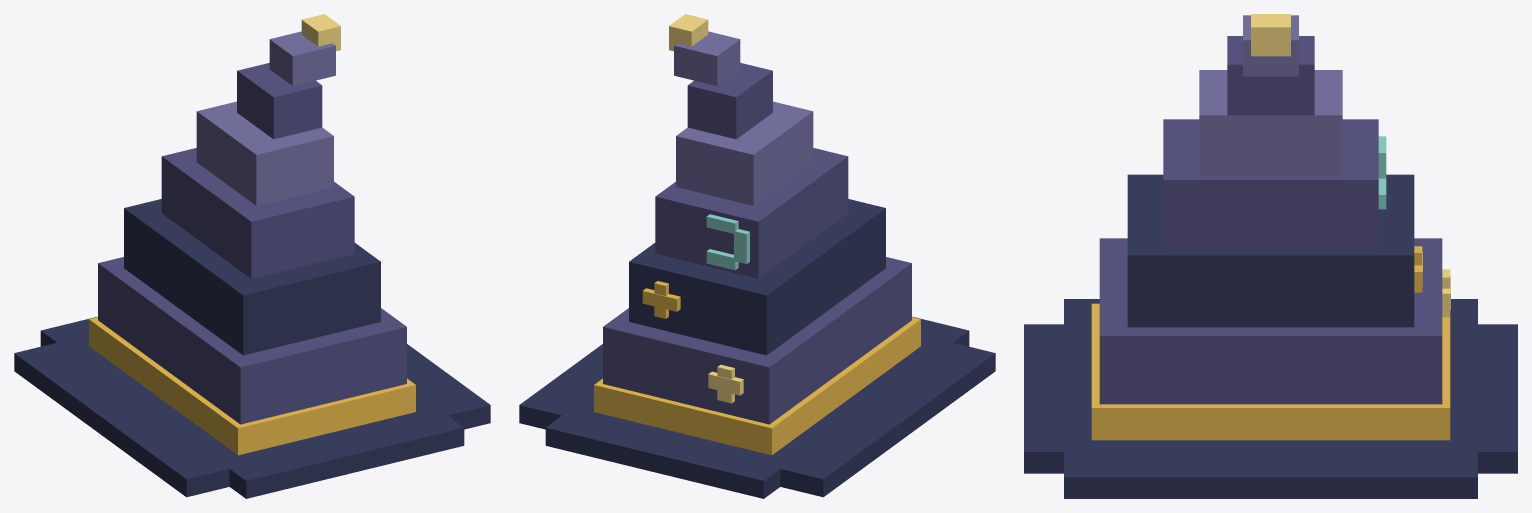
File: wizard_hat.glb
3 views of the same model, side by side, from view 1: azimuth 30°, elevation 25°; view 2: azimuth 150°, elevation 25°; view 3: azimuth 270°, elevation 25° (orthographic). The views are drawn at different scales.
Visible parts, largest first — view 1: cone_base, brim_center, cone_step_two, cone_step_three, gold_hatband, cone_step_four, brim_back, bent_tip_base, bent_tip, tip_gold_bead, brim_front; view 2: cone_base, brim_center, cone_step_two, cone_step_three, gold_hatband, cone_step_four, brim_front, bent_tip_base, bent_tip, tip_gold_bead, brim_back, star_two_horizontal (+2 smaller); view 3: brim_center, cone_base, cone_step_two, cone_step_three, gold_hatband, cone_step_four, brim_front, brim_back, bent_tip_base, bent_tip, tip_gold_bead.
Part boxes in pixels (box(x1,y1,x2,y2)): cone_base: box(98, 257, 406, 424); brim_center: box(14, 335, 490, 497); cone_step_two: box(124, 199, 380, 355); cone_step_three: box(161, 148, 354, 278); gold_hatband: box(89, 317, 415, 455); cone_step_four: box(196, 101, 333, 205); brim_back: box(229, 415, 464, 498); bent_tip_base: box(237, 63, 322, 139); bent_tip: box(269, 31, 335, 85); tip_gold_bead: box(301, 14, 340, 51); brim_front: box(40, 316, 97, 346); cone_base: box(603, 257, 911, 424); brim_center: box(519, 335, 995, 497); cone_step_two: box(629, 199, 885, 355); cone_step_three: box(655, 148, 848, 278); gold_hatband: box(594, 317, 920, 455); cone_step_four: box(676, 101, 813, 205); brim_front: box(545, 415, 780, 498); bent_tip_base: box(687, 63, 772, 139); bent_tip: box(674, 31, 740, 85); tip_gold_bead: box(669, 14, 708, 51); brim_back: box(912, 316, 969, 346); star_two_horizontal: box(642, 288, 680, 311); brim_center: box(1064, 299, 1477, 498); cone_base: box(1099, 238, 1442, 404); cone_step_two: box(1127, 174, 1414, 327); cone_step_three: box(1163, 119, 1378, 248); gold_hatband: box(1091, 303, 1450, 440); cone_step_four: box(1199, 70, 1342, 176); brim_front: box(1478, 324, 1517, 473); brim_back: box(1024, 324, 1063, 473); bent_tip_base: box(1227, 36, 1314, 115); bent_tip: box(1243, 15, 1298, 76); tip_gold_bead: box(1251, 14, 1290, 56).
Bounding box in the file's own units: 0.3313 × 0.3719 × 0.3875.
